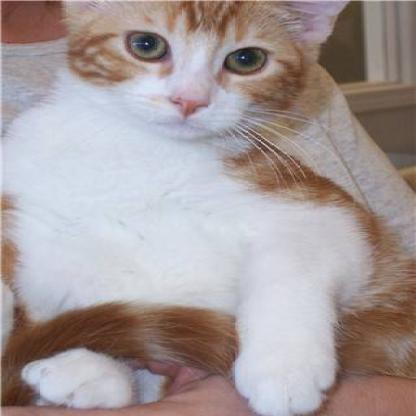cat: (9, 2, 307, 211)
